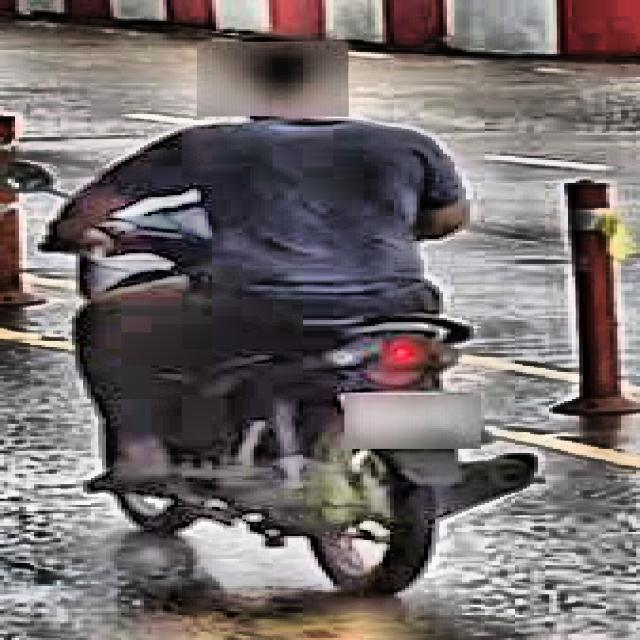motorcycle: (4, 145, 640, 640)
